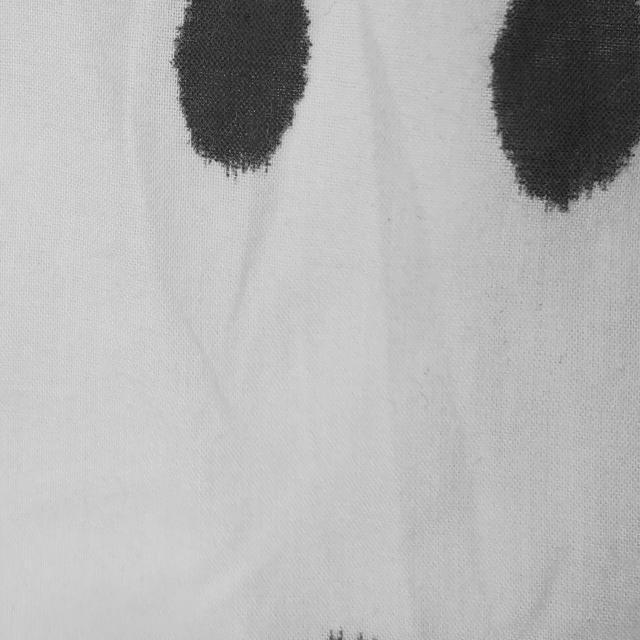Stain: (491, 0, 640, 209), (172, 0, 311, 173), (322, 628, 381, 640)
